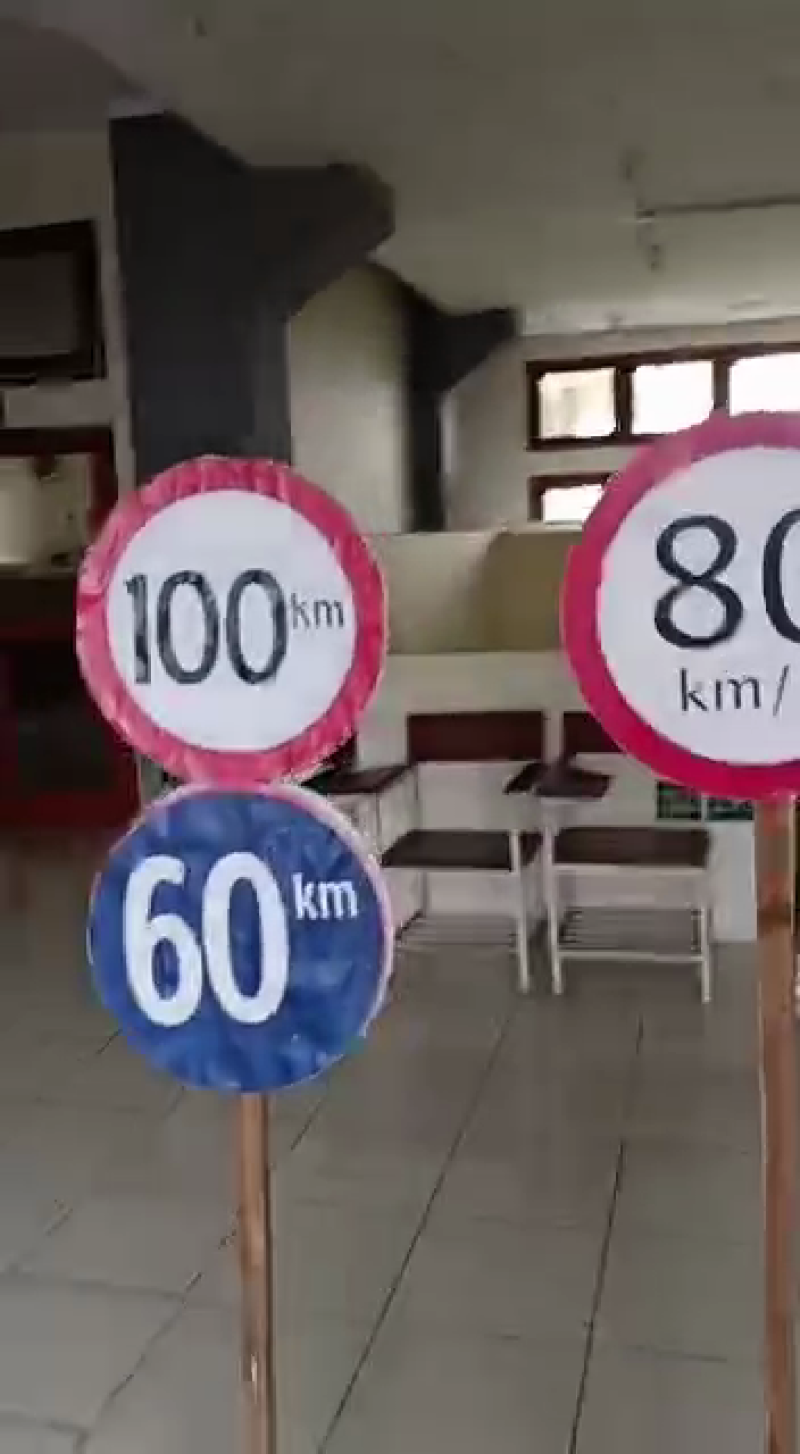batas maksimal 100kmperjam minimal 60kmperjam: (76, 456, 381, 1115)
batas maksimal 80kmperjam: (549, 411, 800, 812)
